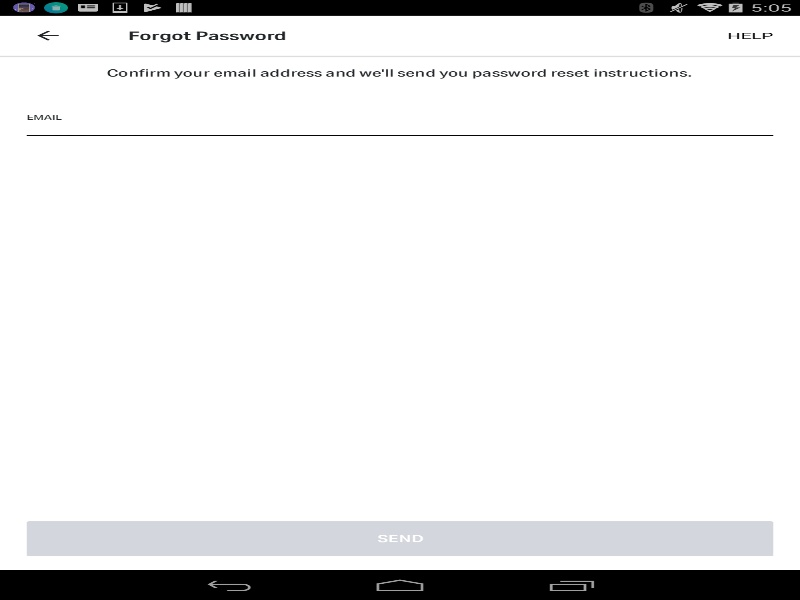Button: (21, 517, 778, 560), (10, 15, 85, 55)
Input: (21, 115, 778, 140)
